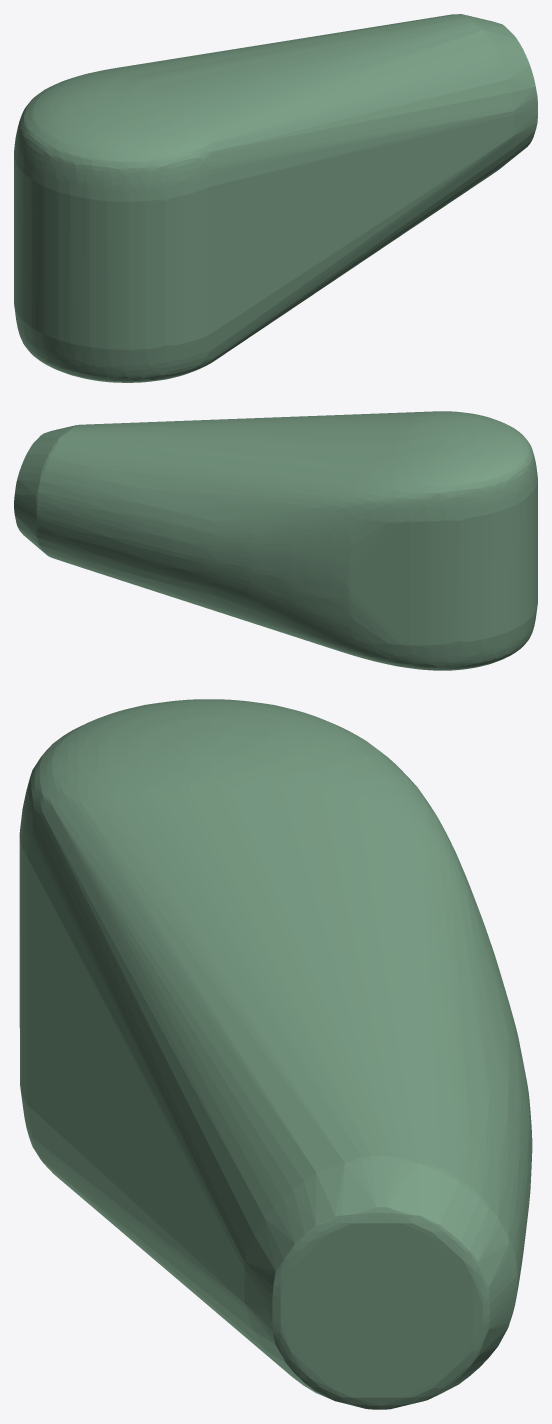
Rendered from arm_l4.obj.
The picture shows the model from 3 angles, top to bottom: view 1: azimuth 30°, elevation 25°; view 2: azimuth 150°, elevation 25°; view 3: azimuth 270°, elevation 25°; orthographic projection. The views are drawn at different scales.
Parts seen in each view (by area): view 1: geometry_0; view 2: geometry_0; view 3: geometry_0.
Part boxes in pixels (<box>): geometry_0: <box>14,14,537,382</box>; geometry_0: <box>14,411,537,670</box>; geometry_0: <box>19,699,532,1409</box>.
Size of the model in its own units: 0.2395 by 0.1105 by 0.1201.
